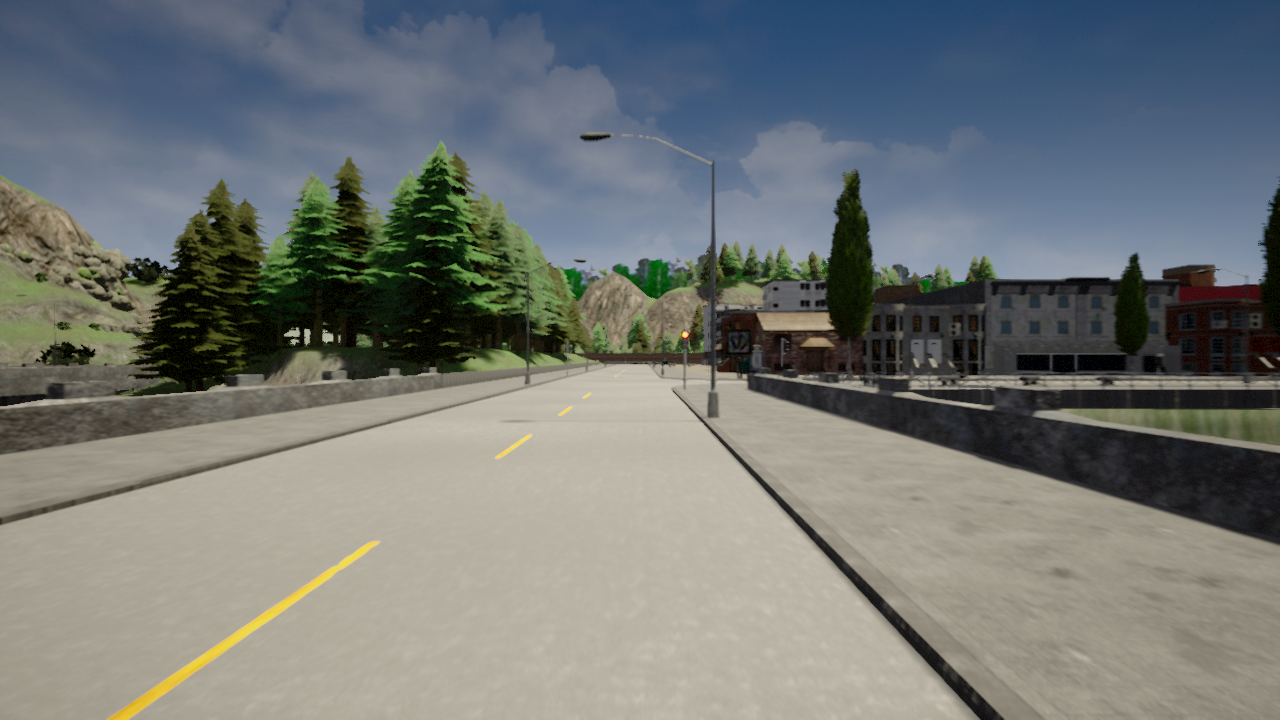red: (681, 330, 690, 350)
